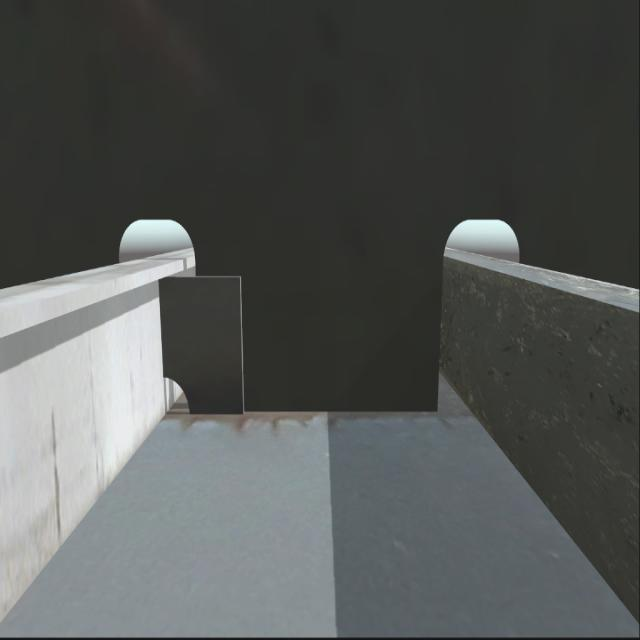fillet_hole: (157, 366, 197, 420)
fillet_yong_jeop_jang: (188, 402, 440, 419)
longi_yong_jeop_jang: (155, 274, 170, 381)
plate_CP01: (160, 272, 243, 420)
